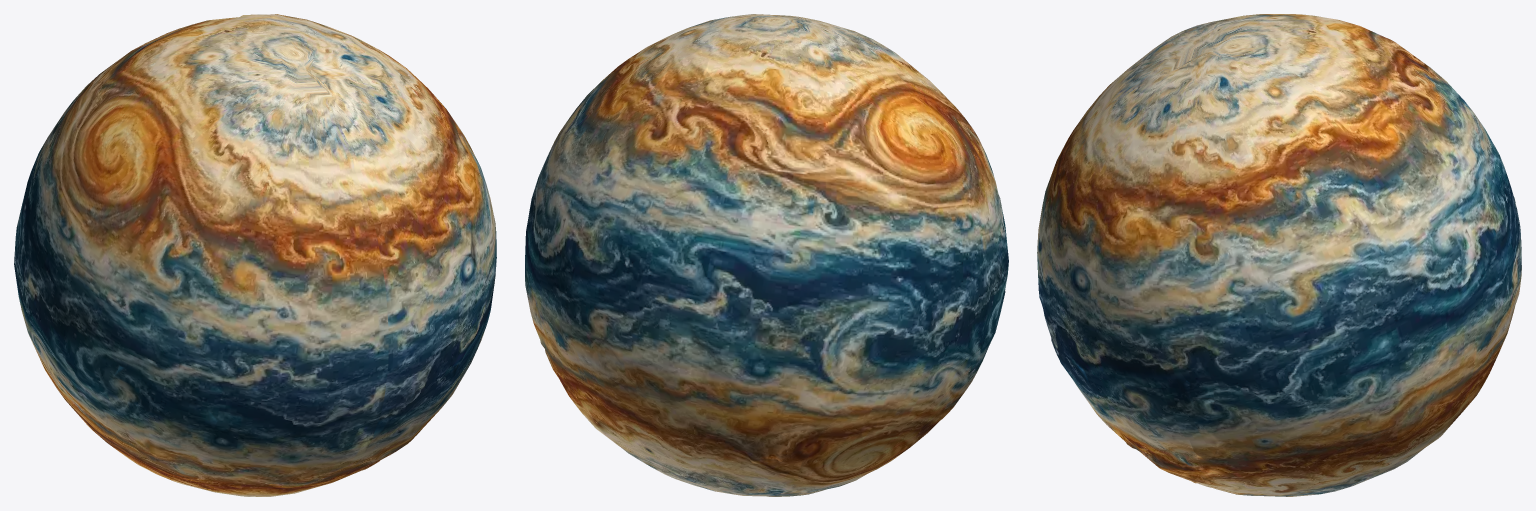
The model's file is planet_3.glb.
3 renders of one model, left to right at view 1: azimuth 30°, elevation 25°; view 2: azimuth 150°, elevation 25°; view 3: azimuth 270°, elevation 25°, orthographic.
Parts seen in each view (by area): view 1: Mesh_0.001; view 2: Mesh_0.001; view 3: Mesh_0.001.
Part boxes in pixels (x1,y1,x2,y2): Mesh_0.001: [14, 14, 496, 496]; Mesh_0.001: [525, 14, 1008, 496]; Mesh_0.001: [1037, 14, 1521, 496].
Bounding box in the file's own units: 1.9 × 1.9 × 1.9.
1 material, 1 textured.
